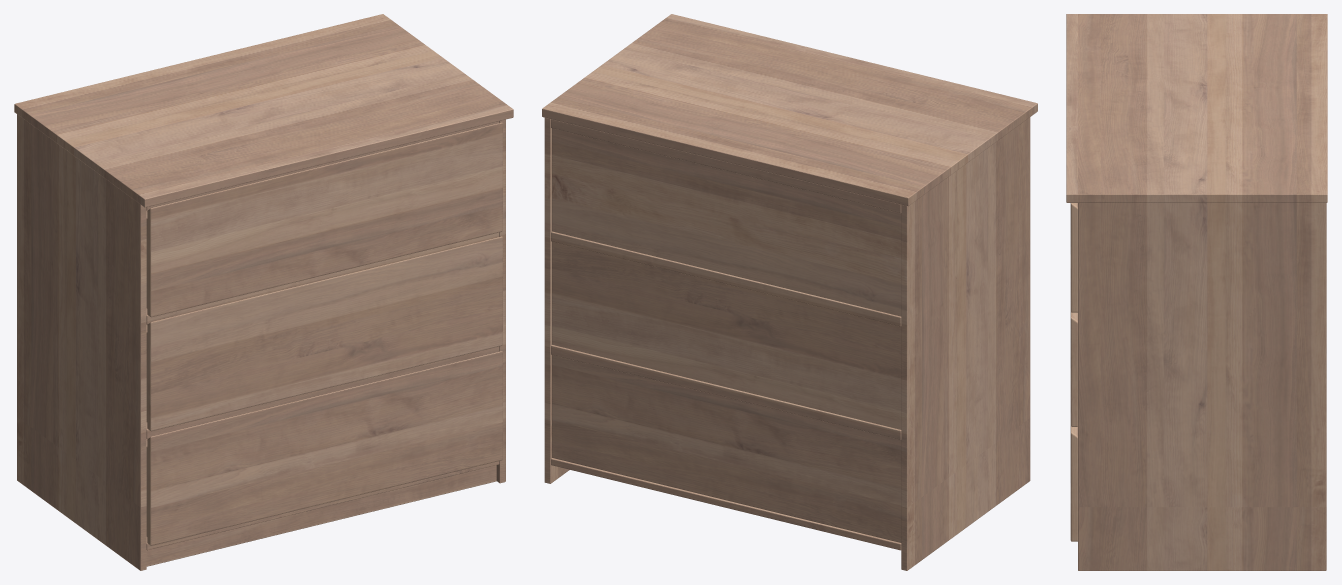
Rendered from Locker 2.obj.
The picture shows the model from 3 angles, left to right: view 1: azimuth 30°, elevation 25°; view 2: azimuth 150°, elevation 25°; view 3: azimuth 270°, elevation 25°; orthographic projection.
Visible parts, largest first — view 1: Box083, Box084, Box086, Box085; view 2: Box083; view 3: Box083, Box084, Box085, Box086.
Boxes of the visible parts, bbox=[...] form: Box083: bbox=[14, 14, 513, 570]; Box084: bbox=[146, 351, 502, 545]; Box086: bbox=[146, 122, 502, 317]; Box085: bbox=[146, 236, 502, 431]; Box083: bbox=[542, 14, 1037, 570]; Box083: bbox=[1066, 14, 1327, 570]; Box084: bbox=[1070, 426, 1077, 541]; Box085: bbox=[1070, 312, 1077, 426]; Box086: bbox=[1070, 203, 1077, 312].
Size of the model in its own units: 808 by 788 by 495.
